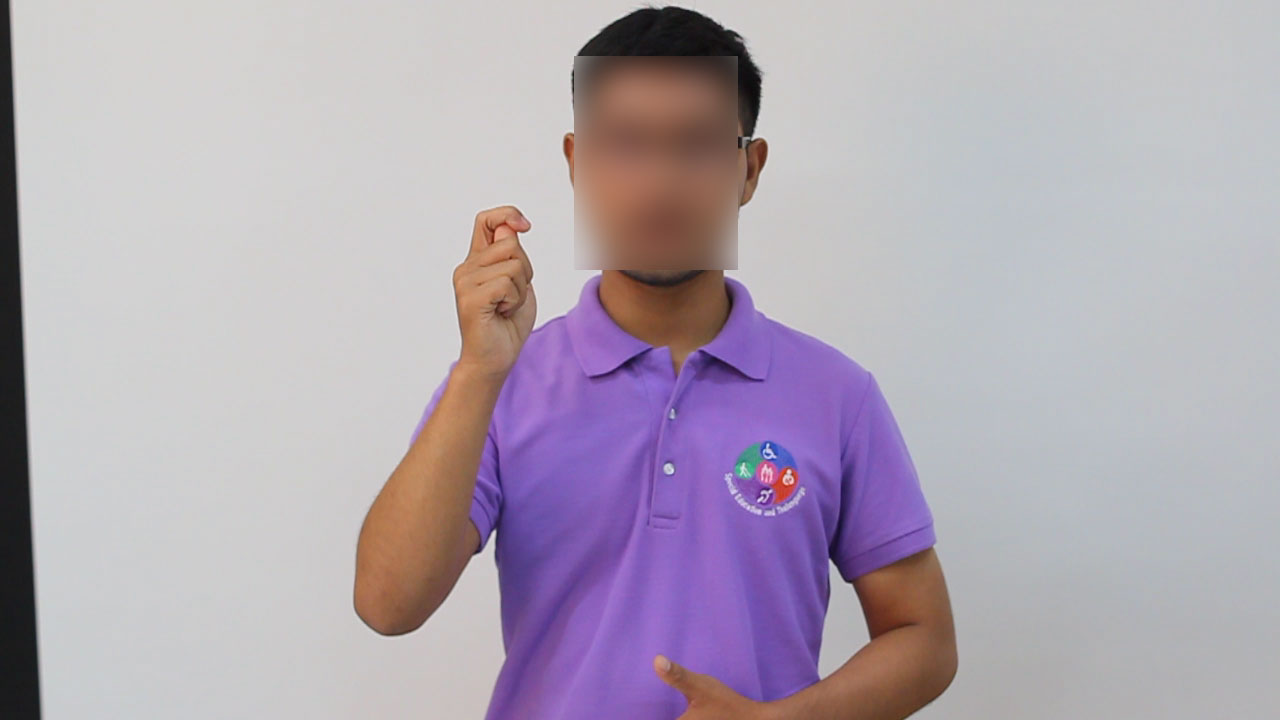or: (450, 201, 544, 380)
